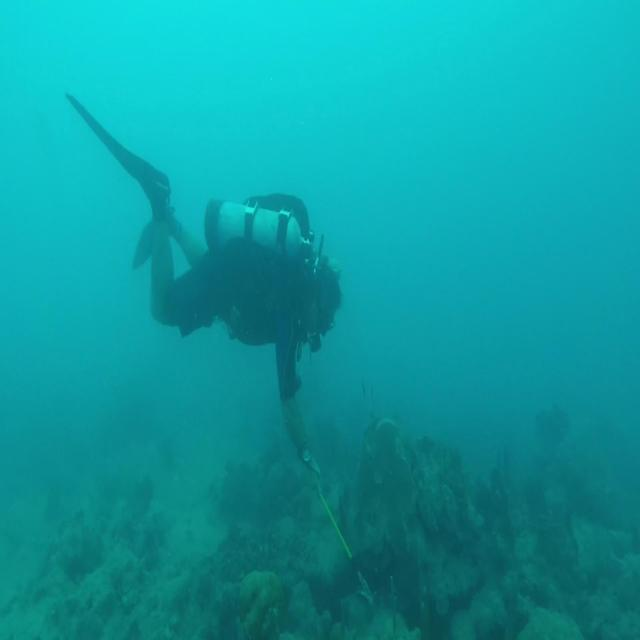human: (64, 90, 343, 482)
